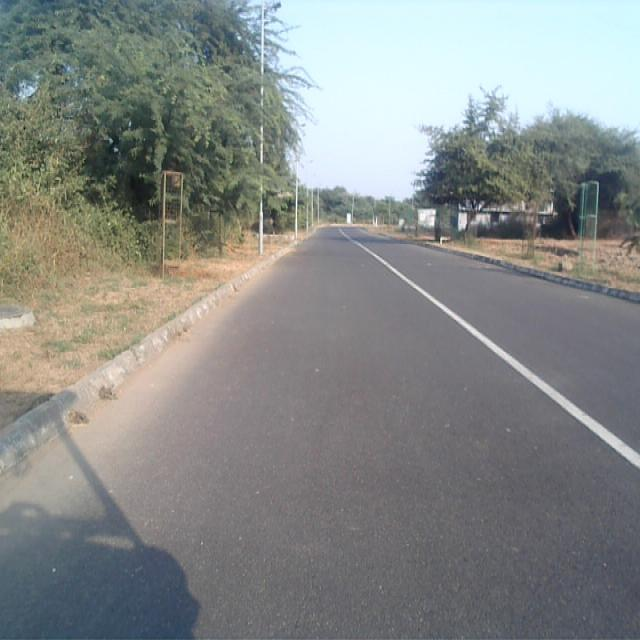lane: (0, 230, 640, 640)
